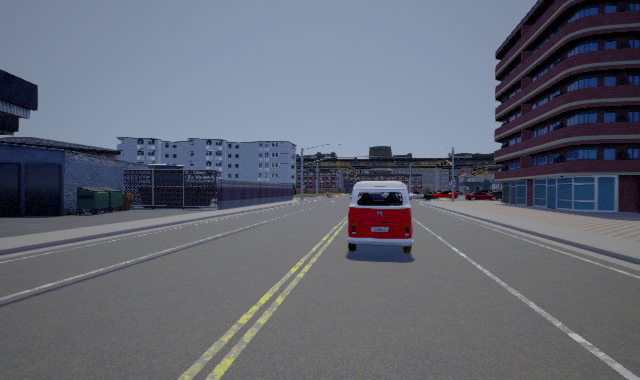vehicle: (347, 178, 412, 254), (465, 189, 502, 201), (433, 190, 458, 199)
